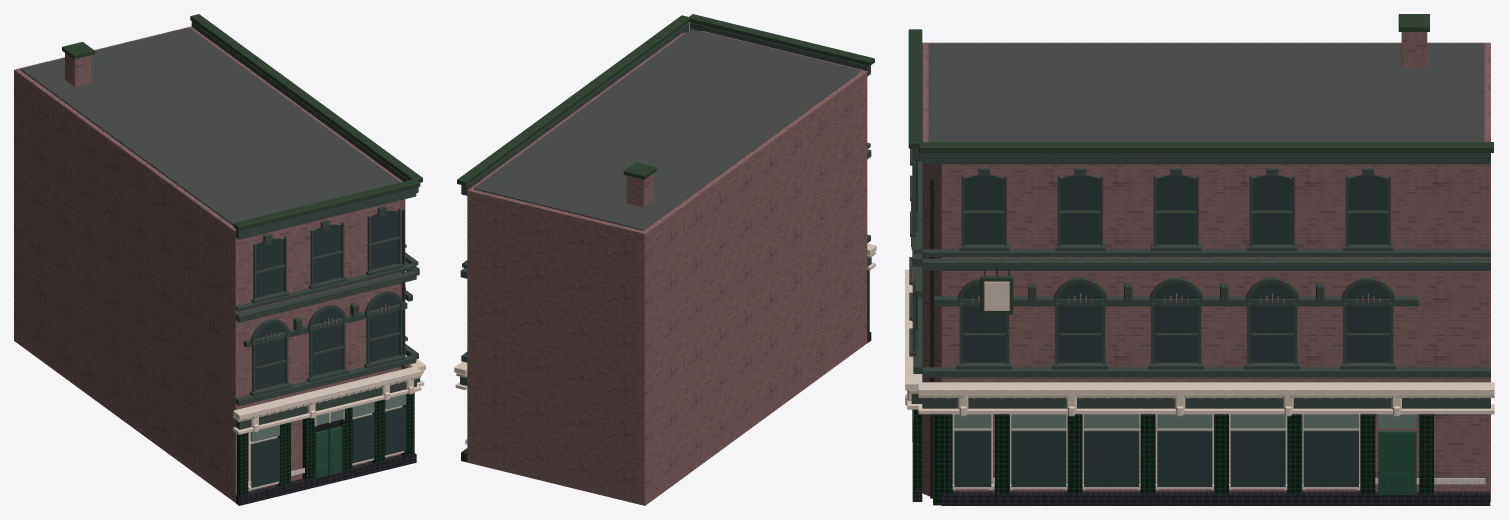
File: harperhey-gullivers.glb
3 renders of one model, left to right at view 1: azimuth 30°, elevation 25°; view 2: azimuth 150°, elevation 25°; view 3: azimuth 270°, elevation 25°, orthographic. The views are drawn at different scales.
Visible parts, largest first — view 1: Gullivers_Runtime_Shell, Gullivers_Runtime_Roof, Gullivers_Runtime_Windows, Gullivers_Runtime_UpperTrim, Gullivers_Runtime_GroundFloor, Gullivers_Runtime_Cornice, Gullivers_Runtime_Doors; view 2: Gullivers_Runtime_Shell, Gullivers_Runtime_Roof, Gullivers_Runtime_Cornice; view 3: Gullivers_Runtime_Shell, Gullivers_Runtime_Roof, Gullivers_Runtime_Windows, Gullivers_Runtime_UpperTrim, Gullivers_Runtime_Cornice, Gullivers_Runtime_GroundFloor, Gullivers_Runtime_Doors, Gullivers_Runtime_SignStructures.
Part boxes in pixels (x1,y1,x2,y2): Gullivers_Runtime_Shell: (14,26,405,502); Gullivers_Runtime_Roof: (20,14,422,239); Gullivers_Runtime_Windows: (248,208,406,490); Gullivers_Runtime_UpperTrim: (235,206,419,490); Gullivers_Runtime_GroundFloor: (235,392,416,505); Gullivers_Runtime_Cornice: (233,355,425,434); Gullivers_Runtime_Doors: (315,420,342,478); Gullivers_Runtime_Shell: (467,31,867,505); Gullivers_Runtime_Roof: (457,14,874,230); Gullivers_Runtime_Cornice: (454,243,876,390); Gullivers_Runtime_Shell: (922,42,1490,501); Gullivers_Runtime_Roof: (908,14,1493,164); Gullivers_Runtime_Windows: (911,148,1416,489); Gullivers_Runtime_UpperTrim: (909,148,1490,489); Gullivers_Runtime_Cornice: (905,269,1494,416); Gullivers_Runtime_GroundFloor: (912,409,1490,505); Gullivers_Runtime_Doors: (912,409,1416,494); Gullivers_Runtime_SignStructures: (980,268,1013,314).
Size of the model in its own units: 7.99 by 12.18 by 16.59.
14 materials, 9 textured.
